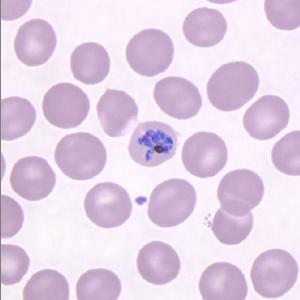Infected: (128, 121, 181, 169)
Uninfected: (207, 59, 261, 110), (55, 130, 105, 180), (148, 177, 196, 228), (39, 83, 91, 129), (124, 28, 172, 77), (85, 180, 132, 229), (252, 248, 297, 298), (136, 239, 183, 285), (243, 93, 287, 142), (152, 76, 202, 119), (13, 16, 56, 66), (97, 89, 139, 138), (218, 170, 263, 214), (12, 156, 56, 201), (182, 132, 225, 178), (181, 7, 226, 47), (212, 203, 254, 245), (0, 97, 39, 142), (198, 263, 245, 300), (69, 43, 109, 85), (73, 267, 121, 300), (23, 269, 67, 300), (0, 241, 29, 287)
